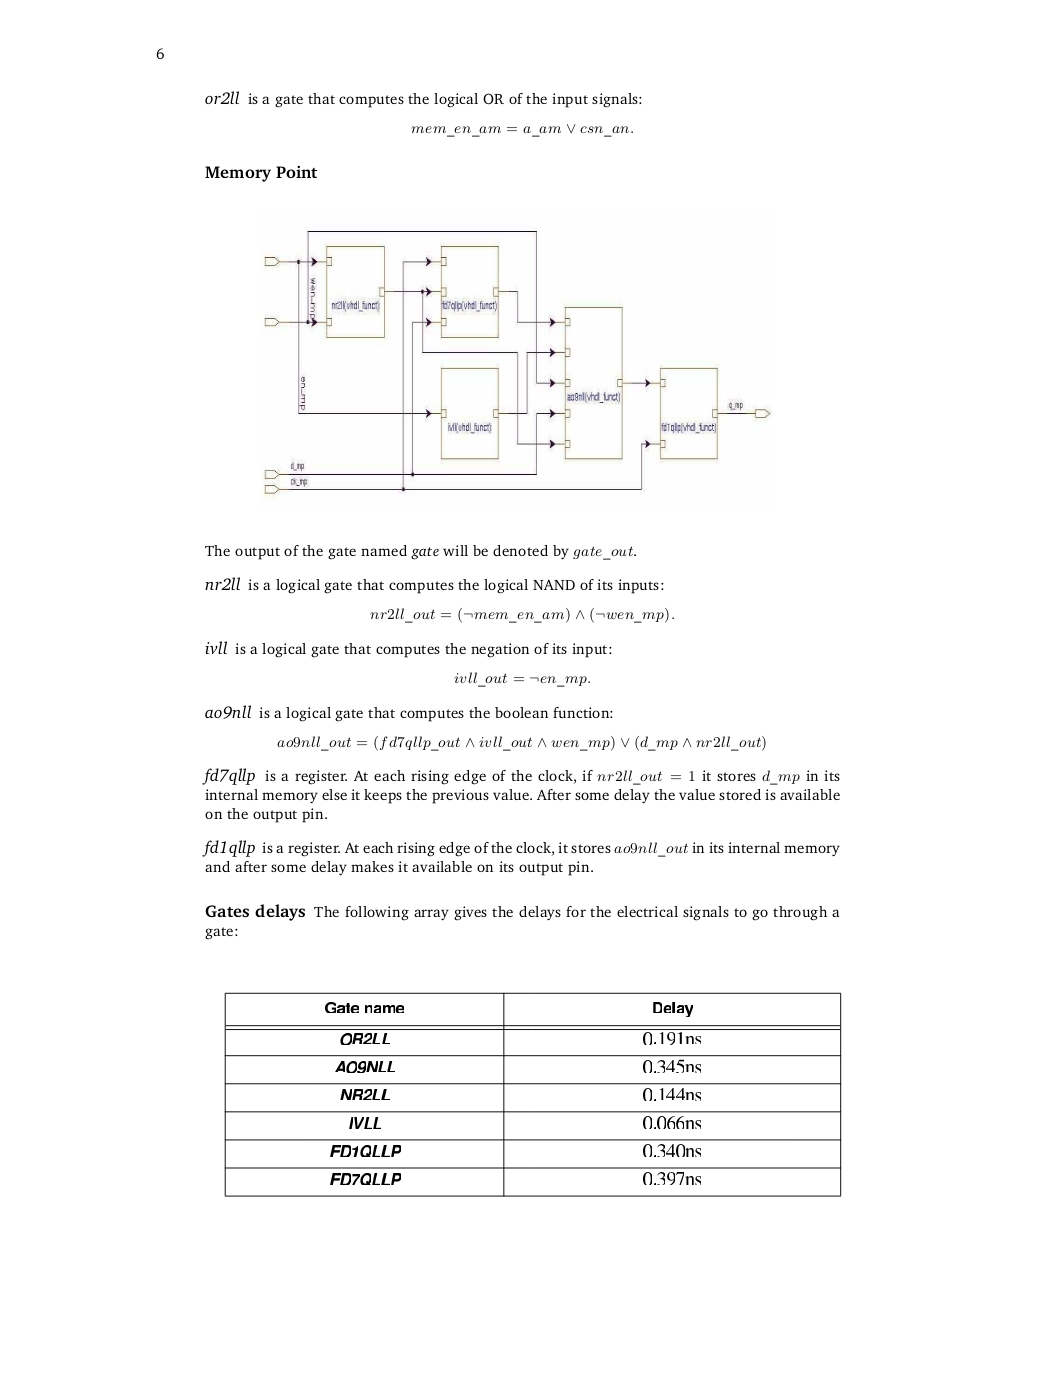Table: (224, 991, 841, 1197)
figure: (263, 230, 771, 494)
formula: (278, 736, 765, 750), (370, 608, 673, 622), (411, 124, 632, 136), (454, 672, 588, 686)
